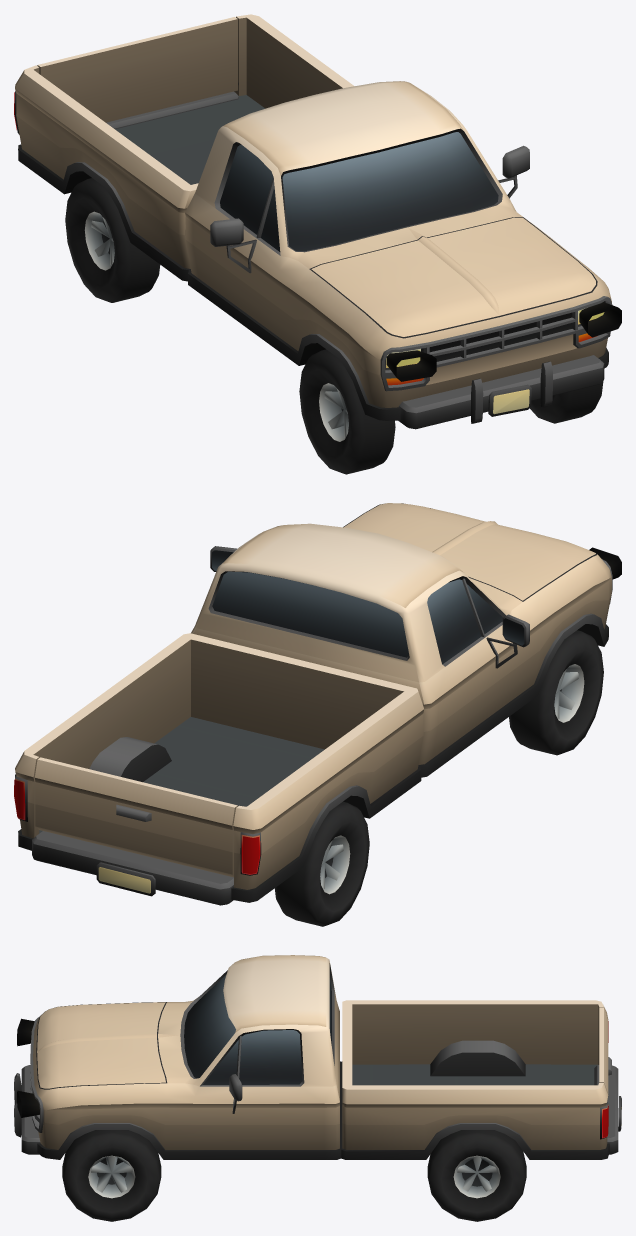
Rendered from Truck_3A.fbx.
The picture shows the model from 3 angles, top to bottom: view 1: azimuth 30°, elevation 25°; view 2: azimuth 150°, elevation 25°; view 3: azimuth 270°, elevation 25°; orthographic projection. The views are drawn at different scales.
Visible parts, largest first — view 1: Truck_3A, Truck_3A_Tailgate, Truck_3A_Wheel_F.R, Truck_3A_Wheel_R.R, Truck_3A_Rays, Truck_3A_Wheel_F.L; view 2: Truck_3A, Truck_3A_Tailgate, Truck_3A_Wheel_R.R, Truck_3A_Wheel_F.R, Truck_3A_Lights; view 3: Truck_3A, Truck_3A_Wheel_R.L, Truck_3A_Wheel_F.L, Truck_3A_Rays, Truck_3A_Tailgate.
Part boxes in pixels (x1,y1,x2,y2): Truck_3A: (14,14,612,429); Truck_3A_Tailgate: (37,17,238,122); Truck_3A_Wheel_F.R: (299,349,395,474); Truck_3A_Wheel_R.R: (65,178,160,302); Truck_3A_Rays: (386,302,621,381); Truck_3A_Wheel_F.L: (529,382,603,423); Truck_3A: (15,503,612,905); Truck_3A_Tailgate: (34,757,237,877); Truck_3A_Wheel_R.R: (274,801,369,926); Truck_3A_Wheel_F.R: (509,630,603,755); Truck_3A_Lights: (14,779,259,874); Truck_3A: (14,955,621,1159); Truck_3A_Wheel_R.L: (427,1130,526,1221); Truck_3A_Wheel_F.L: (62,1130,161,1221); Truck_3A_Rays: (17,1018,39,1117); Truck_3A_Tailgate: (599,1007,611,1094).
Bounding box in the file's own units: 312 × 234 × 662.
